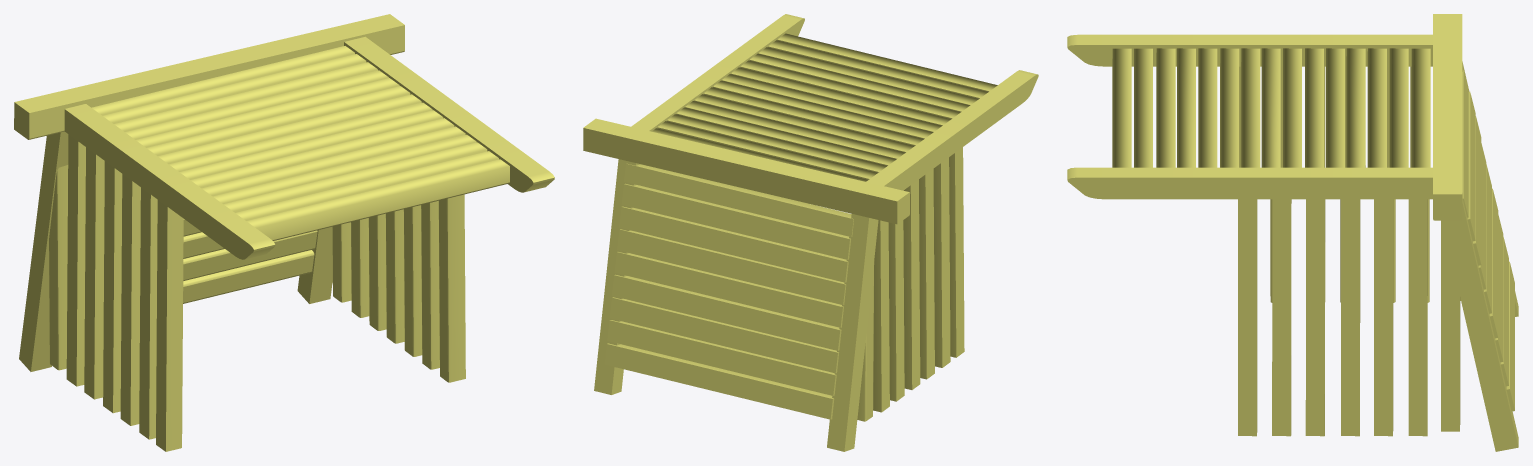
Rendered from Verkh.fbx.
The picture shows the model from 3 angles, left to right: view 1: azimuth 30°, elevation 25°; view 2: azimuth 150°, elevation 25°; view 3: azimuth 270°, elevation 25°; orthographic projection. The views are drawn at different scales.
Visible parts, largest first — view 1: Верх; view 2: Верх; view 3: Верх.
Part boxes in pixels (bbox=[...]): Верх: bbox=[14, 14, 554, 451]; Верх: bbox=[583, 14, 1038, 451]; Верх: bbox=[1067, 14, 1518, 451].
Bounding box in the file's own units: 935 × 692 × 1007.
